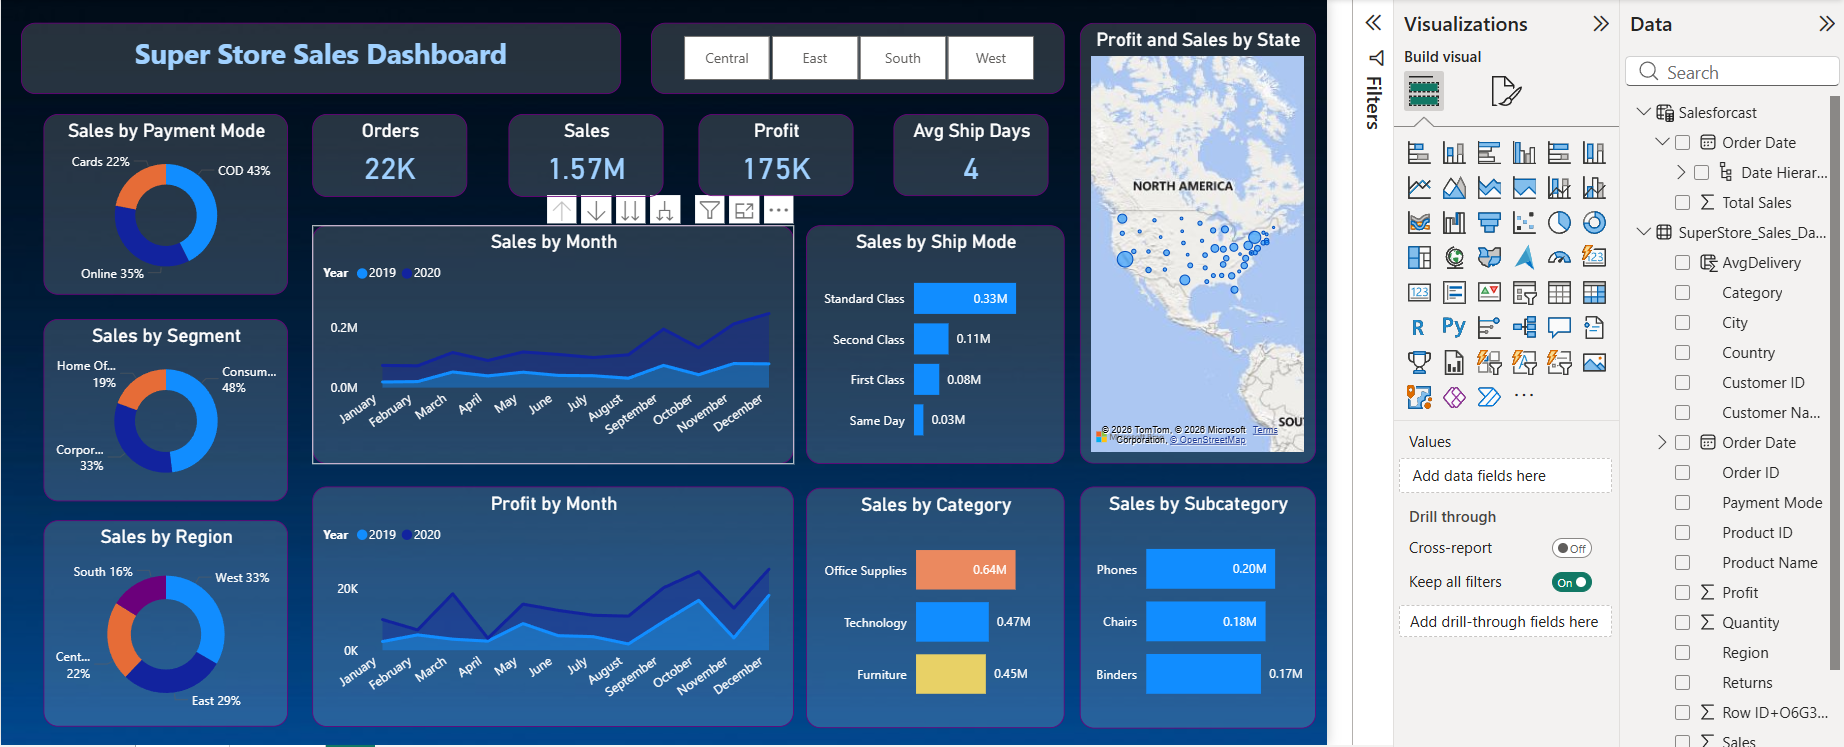

What the dashboard file says about the page in this screenshot:
{"tool":"powerbi","page":{"name":"Page 1","canvas":[1280,720],"ordinal":0},"visuals":[{"type":"clusteredBarChart","title":"Sales by Category","fields":{"Category":["SuperStore_Sales_Dataset.Category"],"Y":["Sum(SuperStore_Sales_Dataset.Sales)"]},"box":[776.7,472,249.7,231.9],"z":0},{"type":"clusteredBarChart","title":"Sales by Subcategory","fields":{"Y":["Sum(SuperStore_Sales_Dataset.Sales)"],"Category":["SuperStore_Sales_Dataset.Sub-Category"]},"box":[1041.5,470.7,227.8,233.3],"z":1000},{"type":"clusteredBarChart","title":"Sales by Ship Mode","fields":{"Y":["Sum(SuperStore_Sales_Dataset.Sales)"],"Category":["SuperStore_Sales_Dataset.Ship Mode"]},"box":[776.7,218.2,249.7,230.5],"z":2000},{"type":"stackedAreaChart","title":"Sales by Month","fields":{"Y":["Sum(SuperStore_Sales_Dataset.Sales)"],"Category":["SuperStore_Sales_Dataset.Order Date.Variation.Date Hierarchy.Month","SuperStore_Sales_Dataset.Order Date.Variation.Date Hierarchy.Day"],"Series":["SuperStore_Sales_Dataset.Order Date.Variation.Date Hierarchy.Year"]},"box":[300.5,218.2,465.2,230.5],"z":3000},{"type":"stackedAreaChart","title":"Profit by Month","fields":{"Category":["SuperStore_Sales_Dataset.Order Date.Variation.Date Hierarchy.Month","SuperStore_Sales_Dataset.Order Date.Variation.Date Hierarchy.Day"],"Series":["SuperStore_Sales_Dataset.Order Date.Variation.Date Hierarchy.Year"],"Y":["Sum(SuperStore_Sales_Dataset.Profit)"]},"box":[300.5,470.7,465.2,231.9],"z":4000},{"type":"map","title":"Profit and Sales by State","fields":{"Category":["SuperStore_Sales_Dataset.State"],"Size":["Sum(SuperStore_Sales_Dataset.Sales)"]},"box":[1041.5,23.3,227.8,425.4],"z":5000},{"type":"donutChart","title":"Sales by Segment","fields":{"Category":["SuperStore_Sales_Dataset.Segment"],"Y":["Sum(SuperStore_Sales_Dataset.Sales)"]},"box":[41.2,308.7,236,175.6],"z":6000},{"type":"donutChart","title":"Sales by Payment Mode","fields":{"Y":["Sum(SuperStore_Sales_Dataset.Sales)"],"Category":["SuperStore_Sales_Dataset.Payment Mode"]},"box":[41.2,111.1,236,174.3],"z":7000},{"type":"slicer","fields":{"Values":["SuperStore_Sales_Dataset.Region"]},"box":[627.1,23.3,399.3,68.6],"z":8000},{"type":"textbox","box":[19.2,23.3,579.1,68.6],"z":9000},{"type":"card","title":"Sales","fields":{"Values":["Sum(SuperStore_Sales_Dataset.Sales)"]},"box":[489.8,111,149.6,79.6],"z":10000},{"type":"card","title":"Orders","fields":{"Values":["Sum(SuperStore_Sales_Dataset.Quantity)"]},"box":[300.4,111,149.6,79.6],"z":11000},{"type":"card","title":"Profit","fields":{"Values":["Sum(SuperStore_Sales_Dataset.Profit)"]},"box":[673.8,111.1,149.6,79.6],"z":12000},{"type":"card","title":"Avg Ship Days","fields":{"Values":["Avg(SuperStore_Sales_Dataset.AvgDelivery)"]},"box":[861.8,111.1,149.6,79.6],"z":13000},{"type":"donutChart","title":"Sales by Region","fields":{"Y":["Sum(SuperStore_Sales_Dataset.Sales)"],"Category":["SuperStore_Sales_Dataset.Region"]},"box":[41.2,503.6,236,199],"z":14000}]}

Visuals, with their boxes on the page's 1280x720 design canvas (x1, y1, x2, y2). These are canvas units, not pixel positions in the 1844x747 screenshot, which may show the page scaled, cropped or inside an application window:
"Sales by Category" clusteredBarChart: x1=777 y1=472 x2=1026 y2=704
"Sales by Subcategory" clusteredBarChart: x1=1042 y1=471 x2=1269 y2=704
"Sales by Ship Mode" clusteredBarChart: x1=777 y1=218 x2=1026 y2=449
"Sales by Month" stackedAreaChart: x1=300 y1=218 x2=766 y2=449
"Profit by Month" stackedAreaChart: x1=300 y1=471 x2=766 y2=703
"Profit and Sales by State" map: x1=1042 y1=23 x2=1269 y2=449
"Sales by Segment" donutChart: x1=41 y1=309 x2=277 y2=484
"Sales by Payment Mode" donutChart: x1=41 y1=111 x2=277 y2=285
slicer - SuperStore_Sales_Dataset.Region: x1=627 y1=23 x2=1026 y2=92
textbox: x1=19 y1=23 x2=598 y2=92
"Sales" card: x1=490 y1=111 x2=639 y2=191
"Orders" card: x1=300 y1=111 x2=450 y2=191
"Profit" card: x1=674 y1=111 x2=823 y2=191
"Avg Ship Days" card: x1=862 y1=111 x2=1011 y2=191
"Sales by Region" donutChart: x1=41 y1=504 x2=277 y2=703
